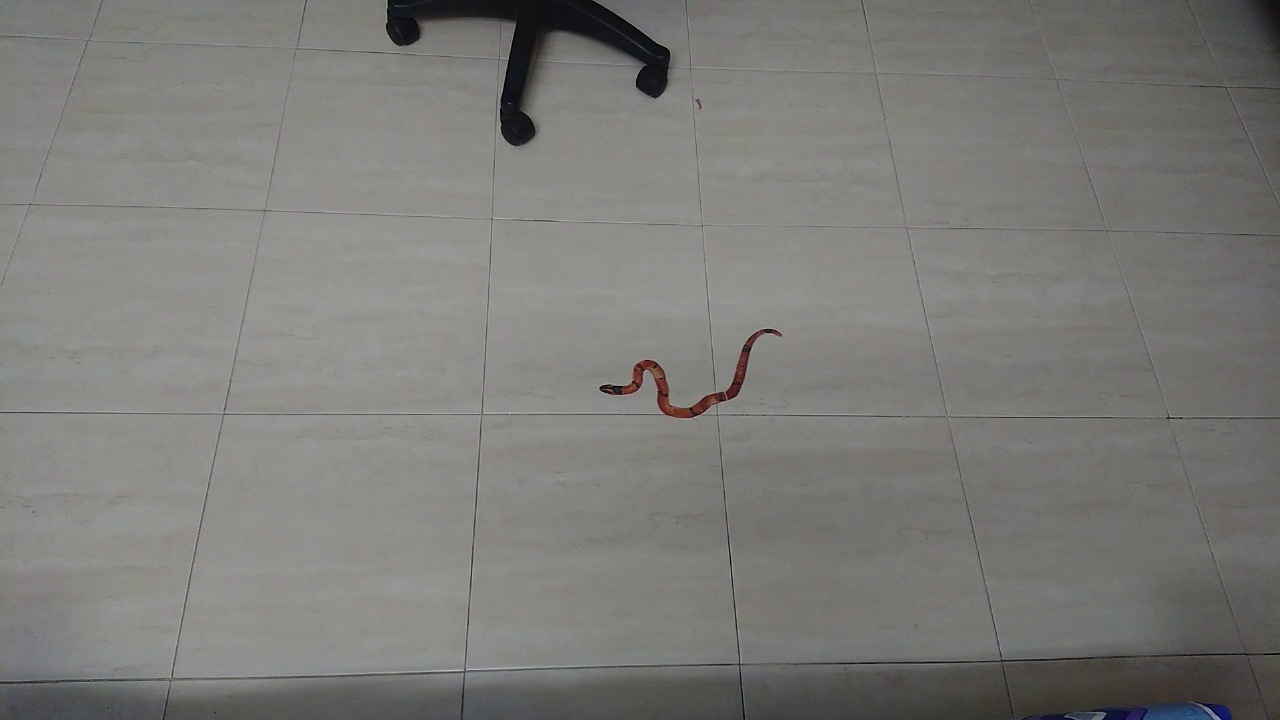snake: (582, 310, 805, 439)
